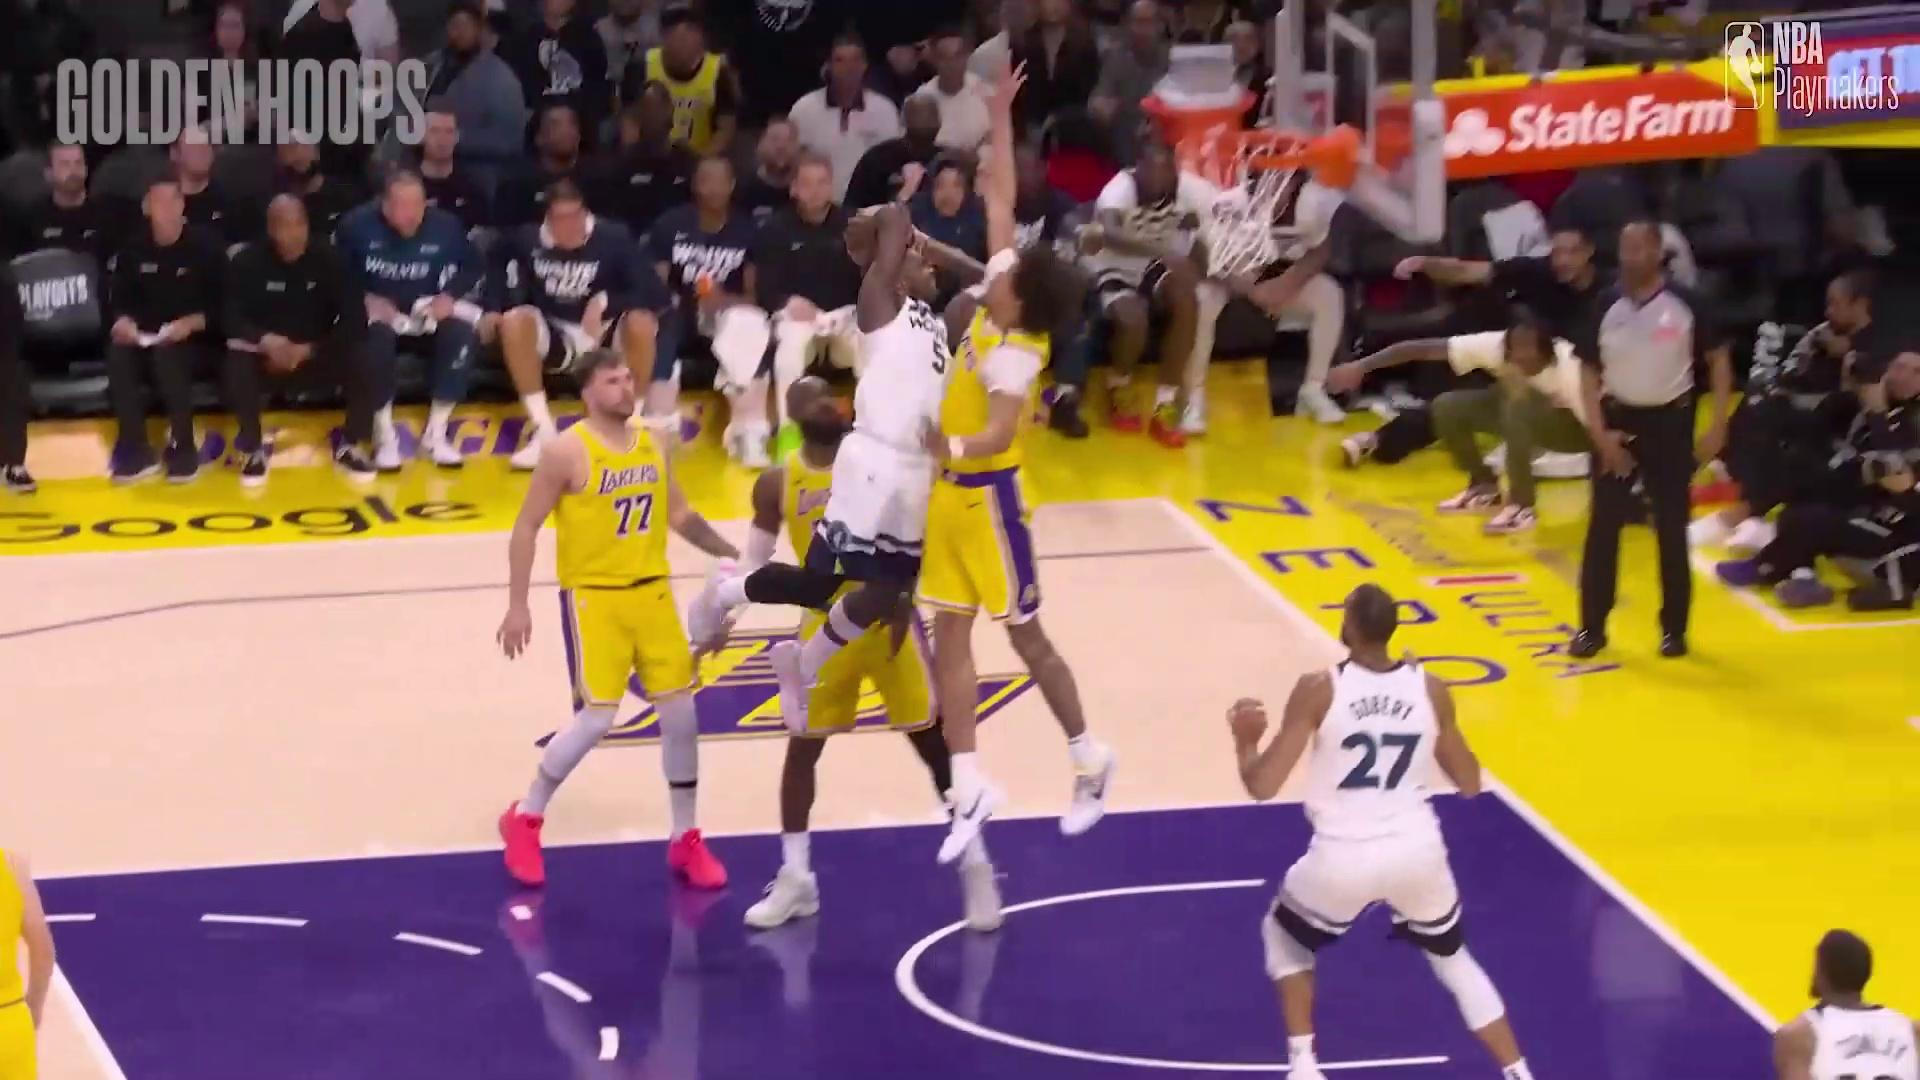ball: (840, 200, 891, 264)
hoop: (1174, 120, 1309, 285)
